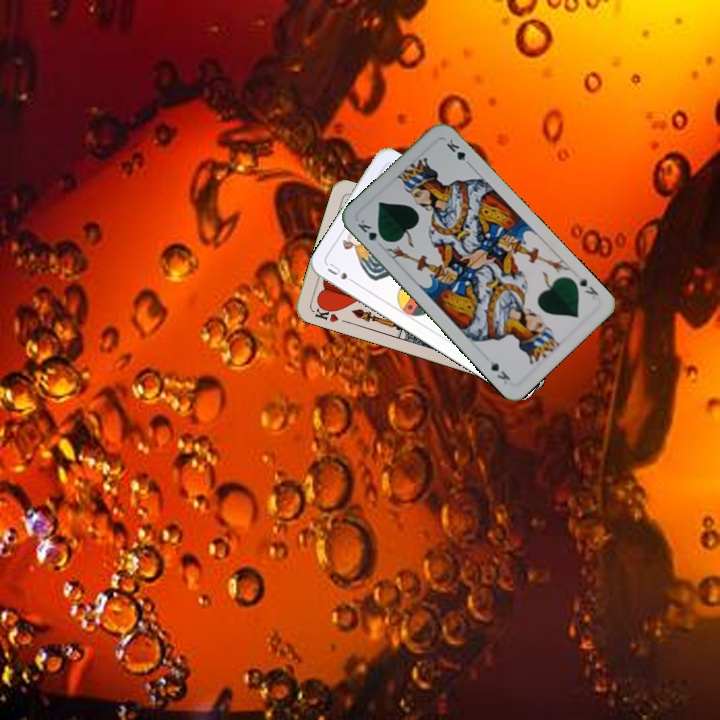GK: (353, 215, 389, 246), (574, 272, 601, 298)
HK: (309, 301, 341, 325)
SU: (323, 259, 360, 287)
